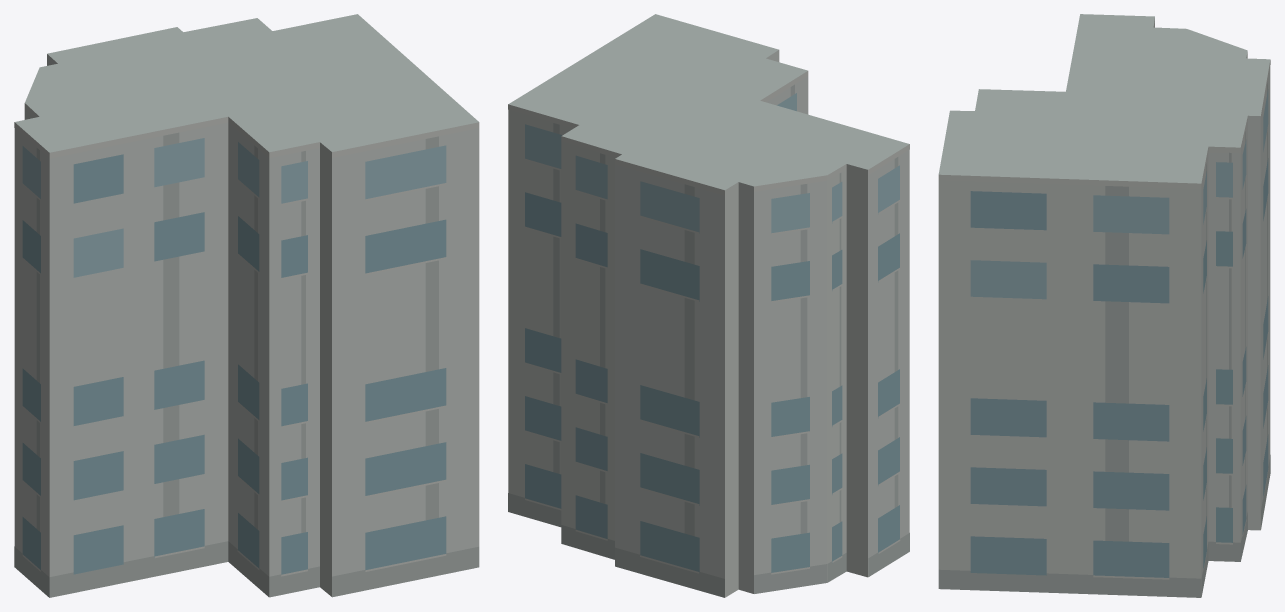
File: survey-upis-32506236.glb
3 views of the same model, side by side, from view 1: azimuth 30°, elevation 25°; view 2: azimuth 150°, elevation 25°; view 3: azimuth 270°, elevation 25° (orthographic). The views are drawn at different scales.
Parts seen in each view (by area): view 1: survey-upis-32506236.tmp; view 2: survey-upis-32506236.tmp; view 3: survey-upis-32506236.tmp.
Part boxes in pixels (left/top/right/bottom): survey-upis-32506236.tmp: left=14, top=14, right=479, bottom=597; survey-upis-32506236.tmp: left=508, top=14, right=909, bottom=597; survey-upis-32506236.tmp: left=938, top=14, right=1270, bottom=597.
Size of the model in its own units: 16.03 by 18.25 by 13.26.
